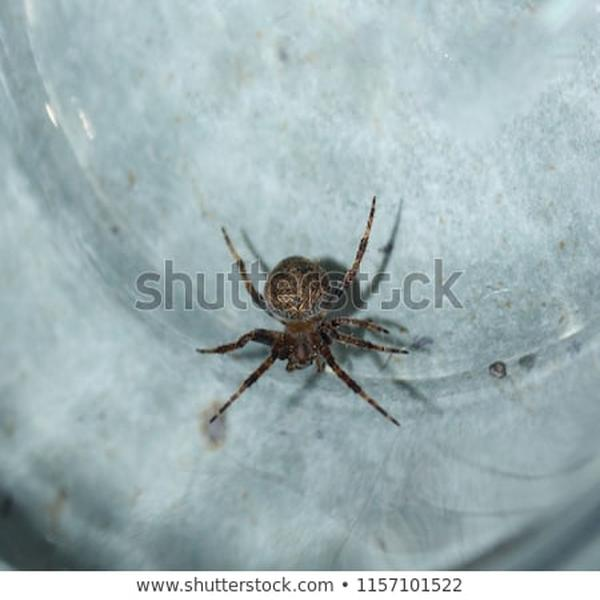Garden Orb Weaver Spider: (206, 202, 409, 436)
